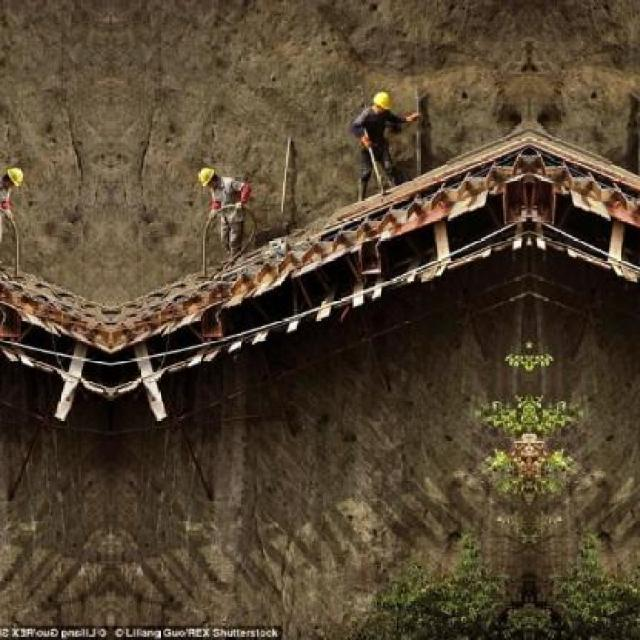helmet: (365, 86, 392, 117), (0, 163, 28, 191), (192, 164, 220, 190)
